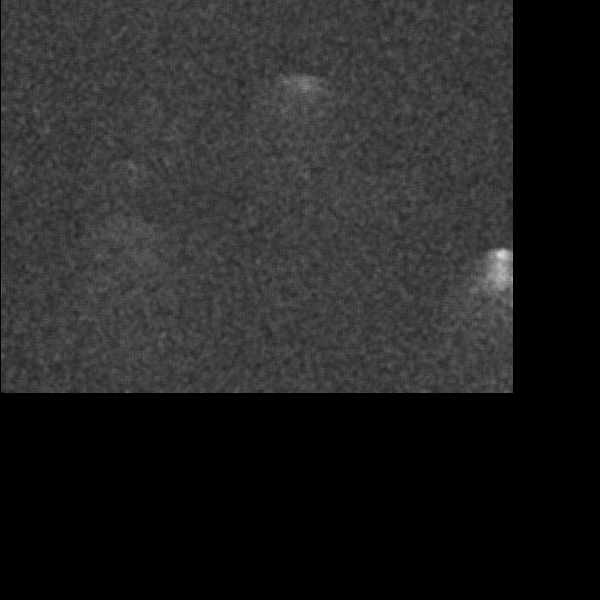spark: (2, 123, 58, 214), (416, 35, 457, 109), (124, 162, 165, 230)
